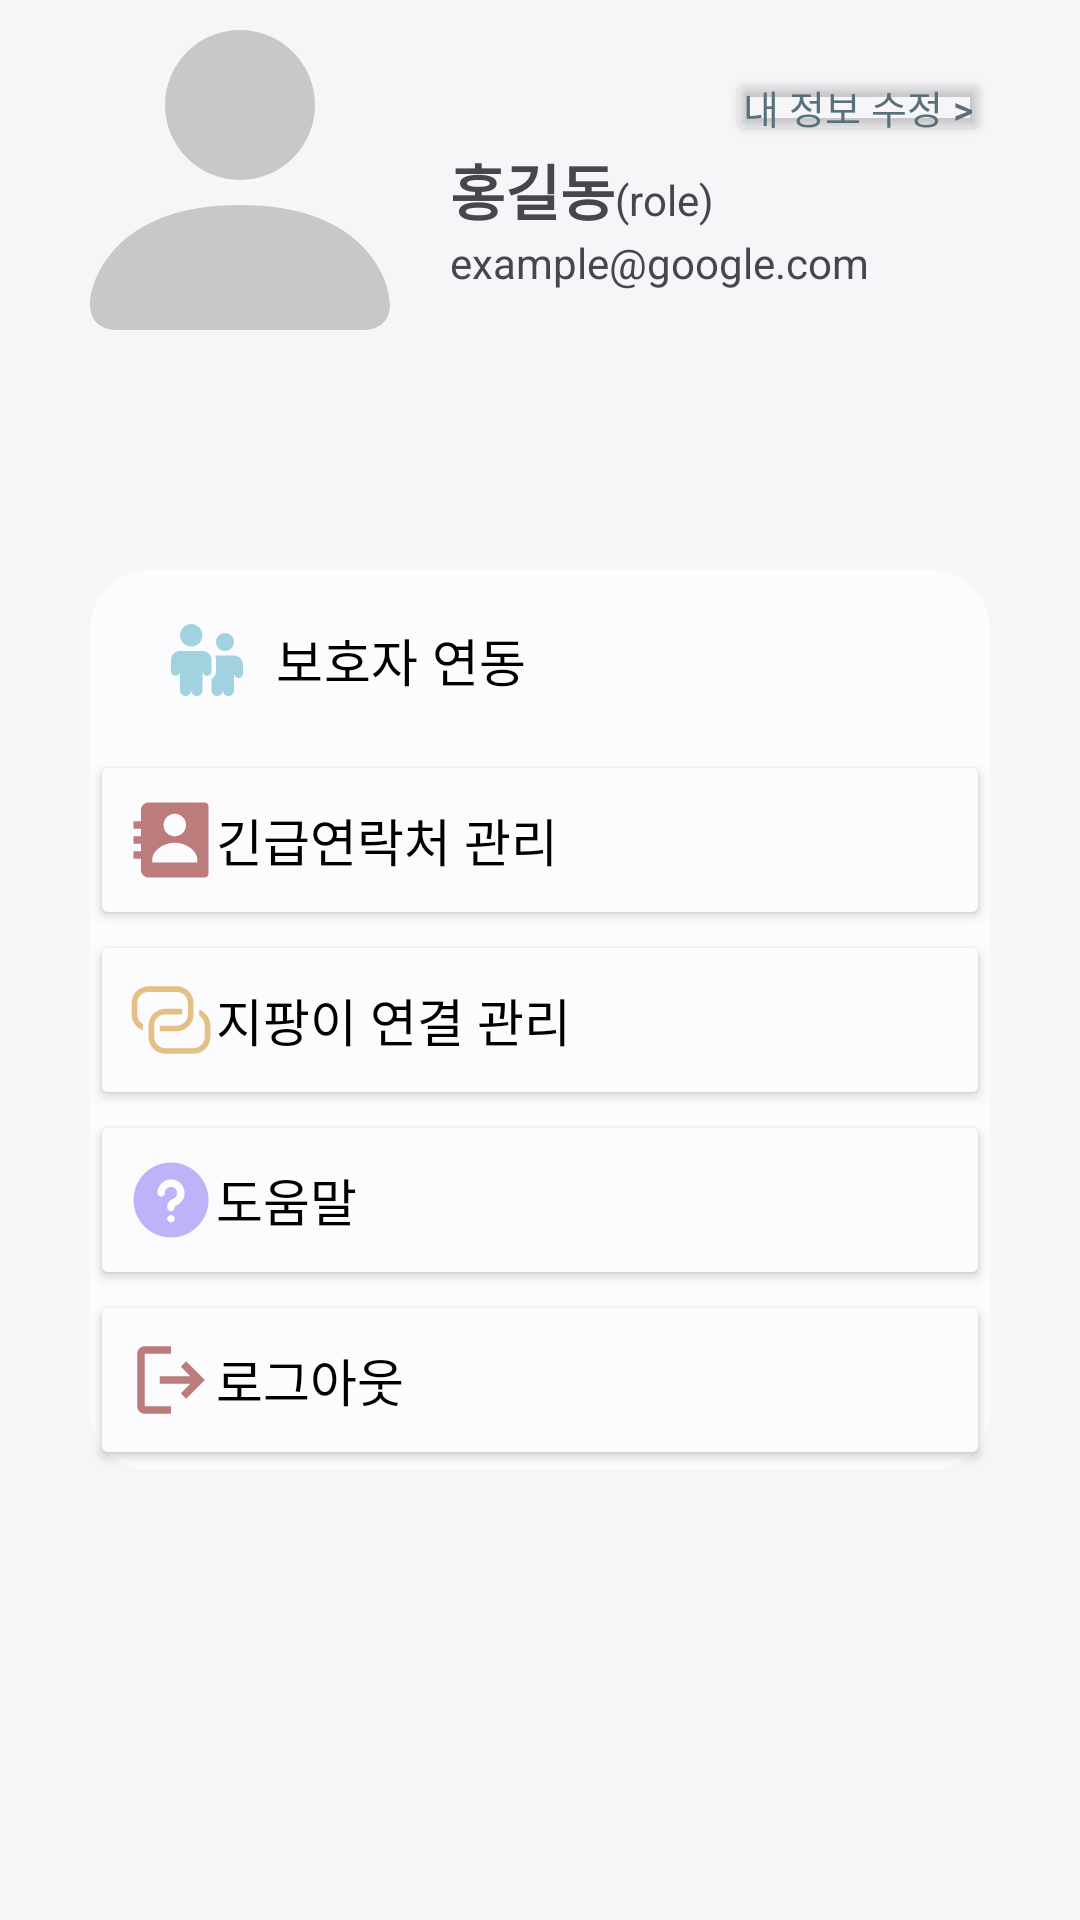

Screen size 1080px x 1920px. Icon name, then its box in pixels as region(x1, y1, x2, y2):
mypage: region(90, 30, 390, 330)
